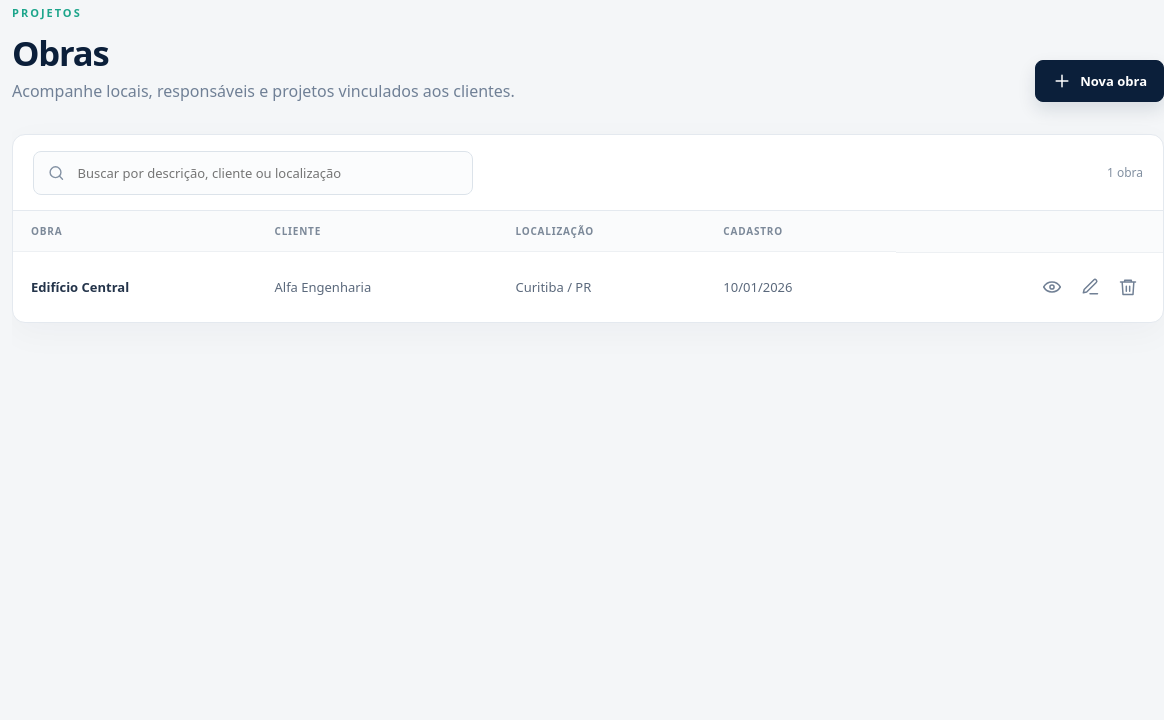
Test: módulo de obras › pesquisa por cliente e localização
Expected: the text "Edifício Central" is shown, [31,278,129,296]
Type "alfa" into the field named "Pesquisar obras" at (267, 173), box [76,163,459,183]
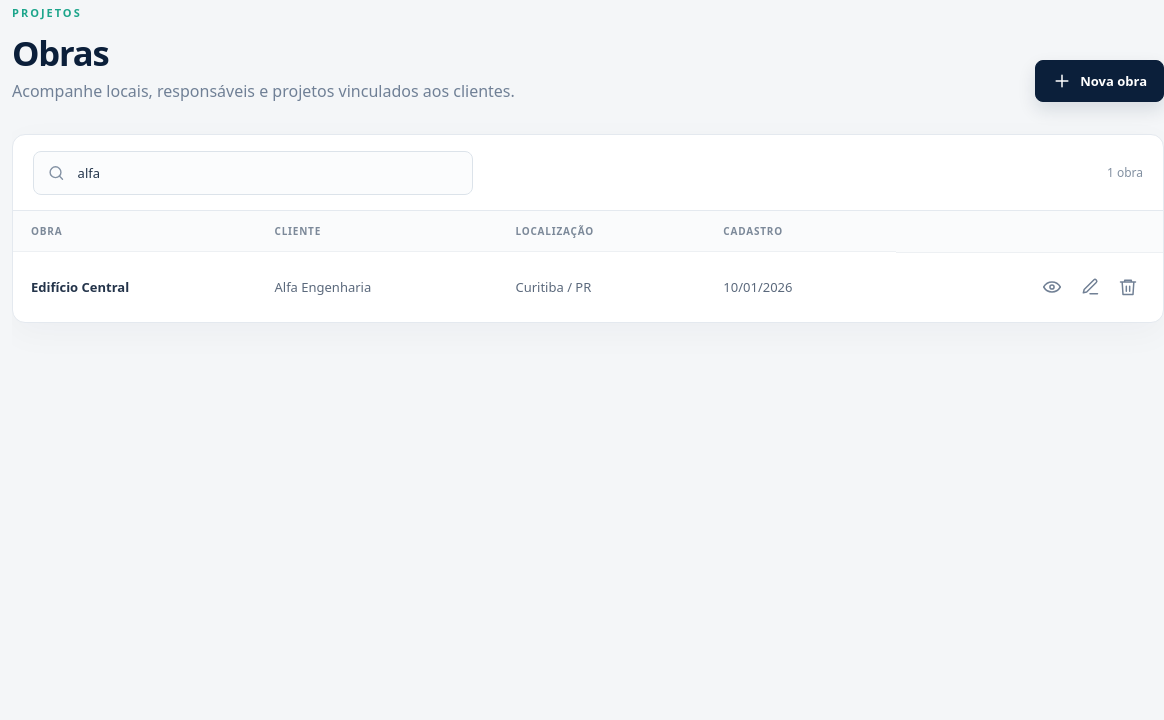
Expected: the text "Edifício Central" is shown, [31,278,129,296]
Replace the text in the field named "Pesquisar obras" with "inexistente" at (267, 173), box [76,163,459,183]
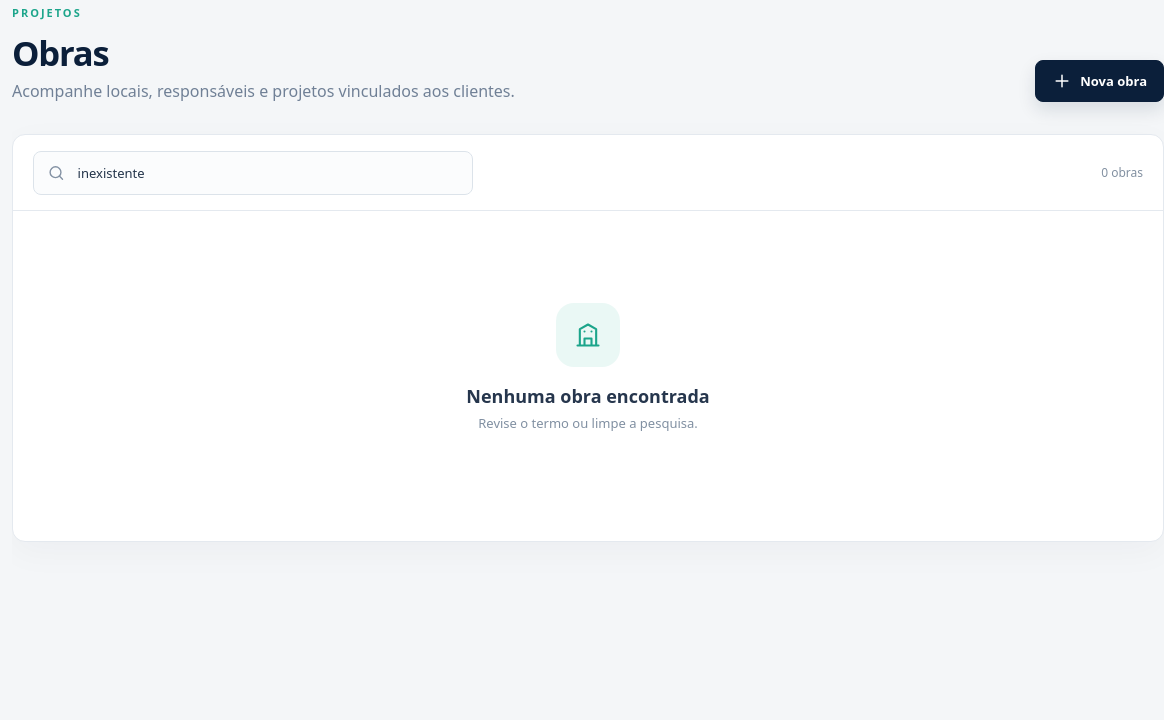
Expected: the heading "Nenhuma obra encontrada" is shown, [466,384,710,408]
